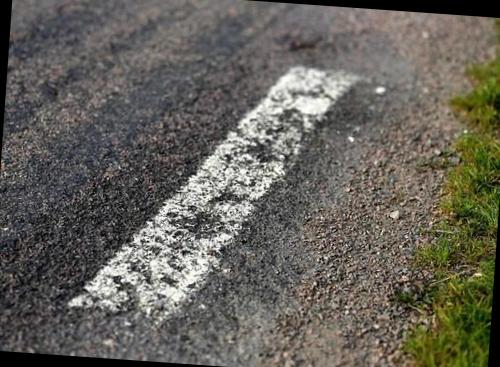faded_road_lines: (68, 65, 361, 314)
